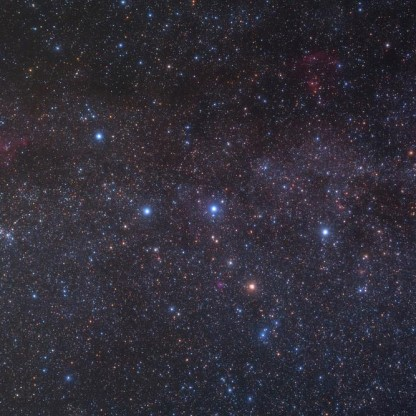Cassiopeia: (223, 255, 263, 298), (121, 190, 161, 229), (198, 194, 238, 228), (314, 218, 342, 251), (88, 122, 114, 145)
